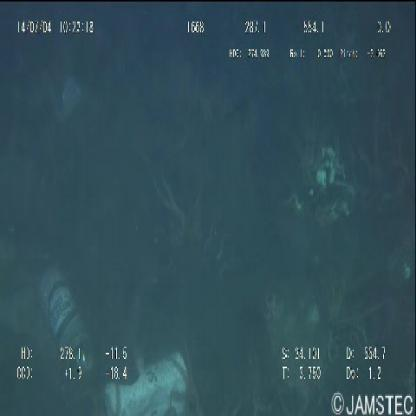Rác: (106, 348, 188, 414)
